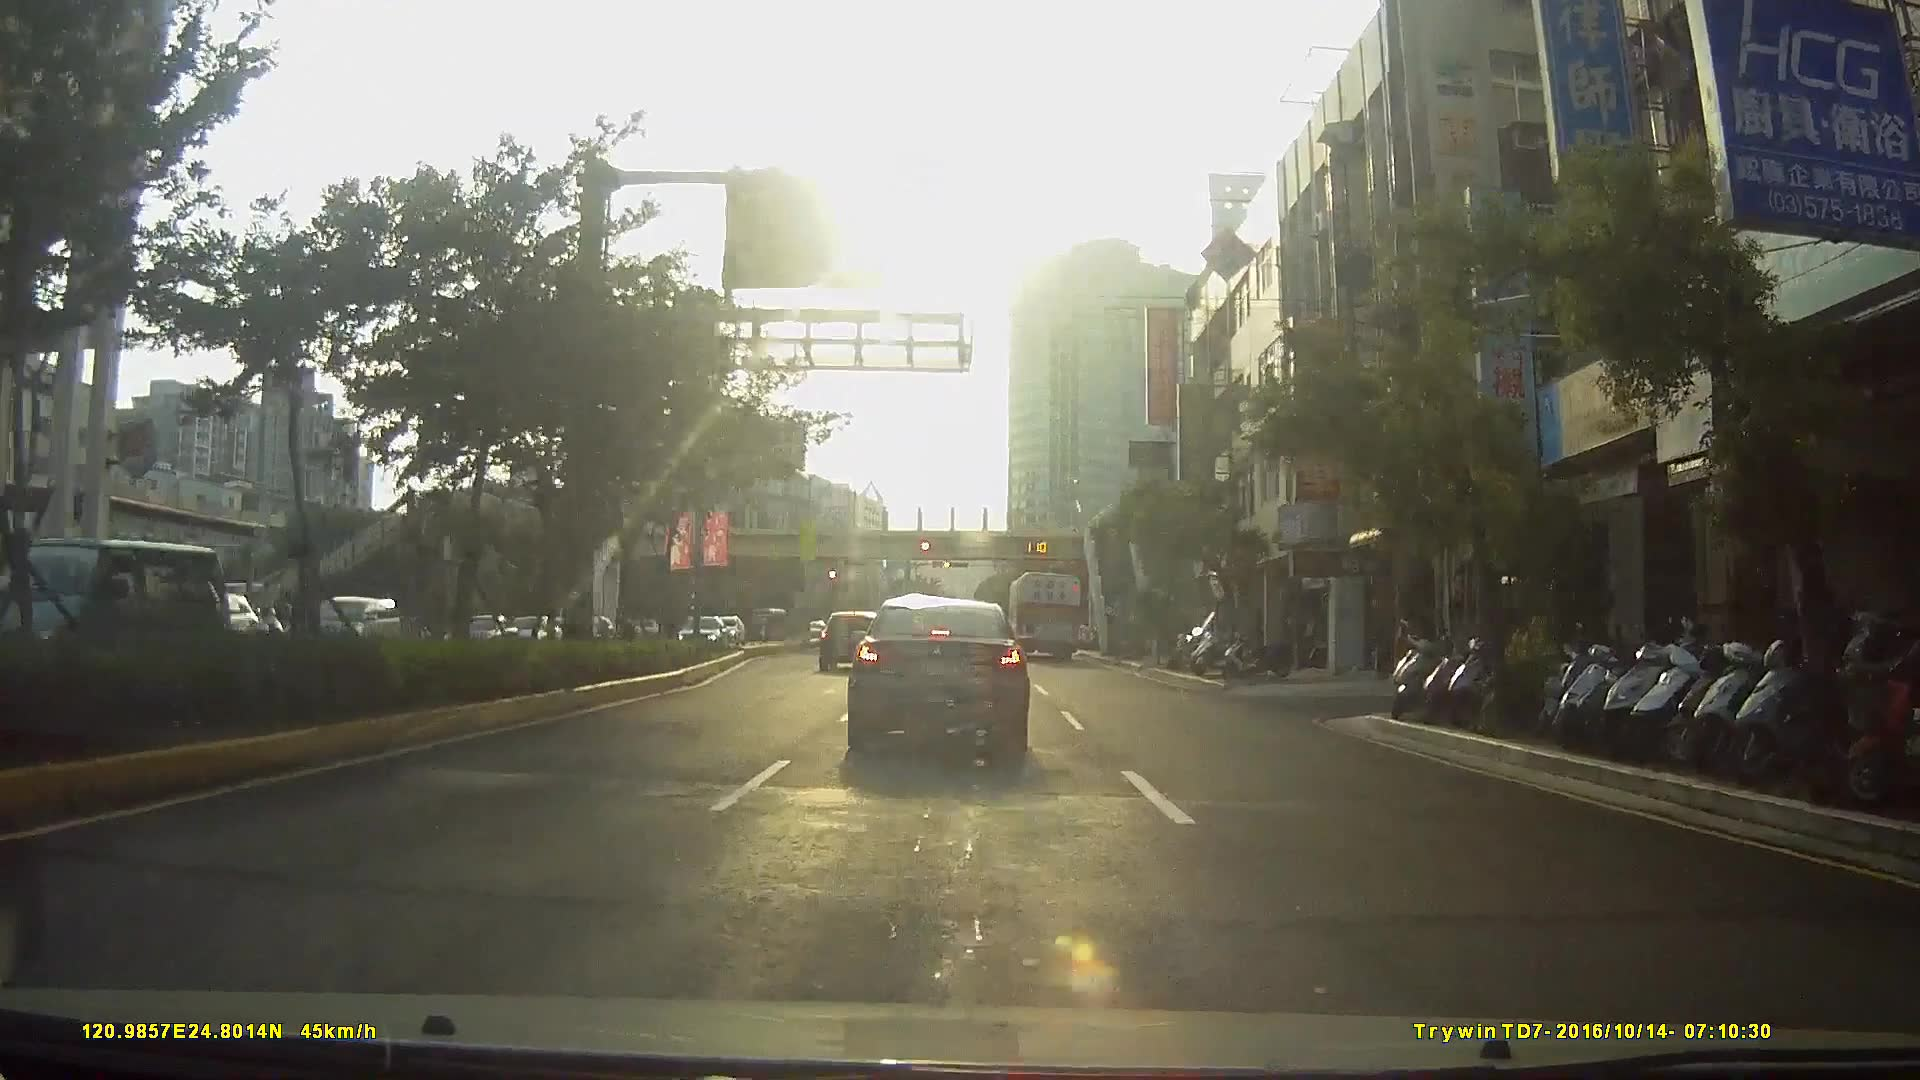vehicle: (1, 539, 241, 686), (844, 593, 1030, 757), (1005, 570, 1083, 665), (290, 593, 397, 658), (815, 607, 884, 675), (670, 612, 729, 651)
